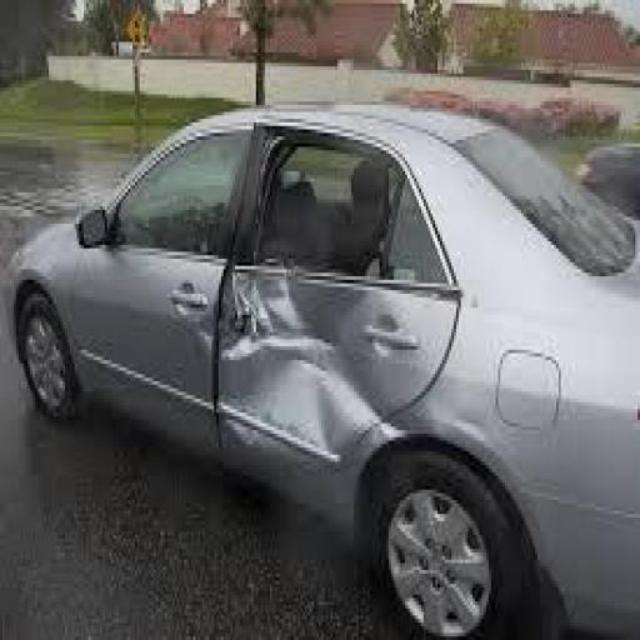dent: (210, 115, 491, 483)
